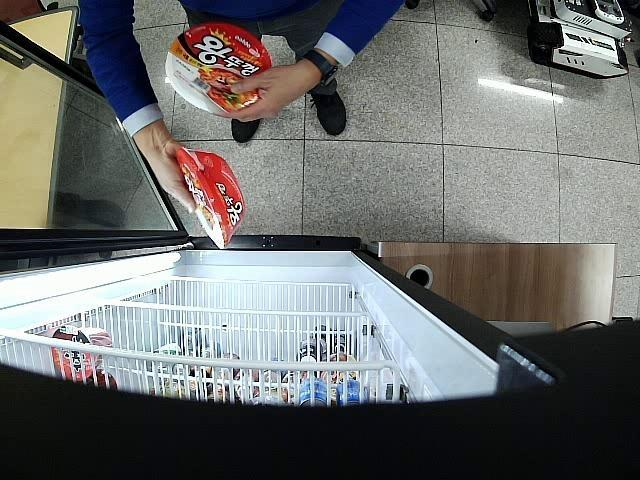10_wangTtukkeong: (165, 23, 272, 115), (175, 146, 245, 250)
